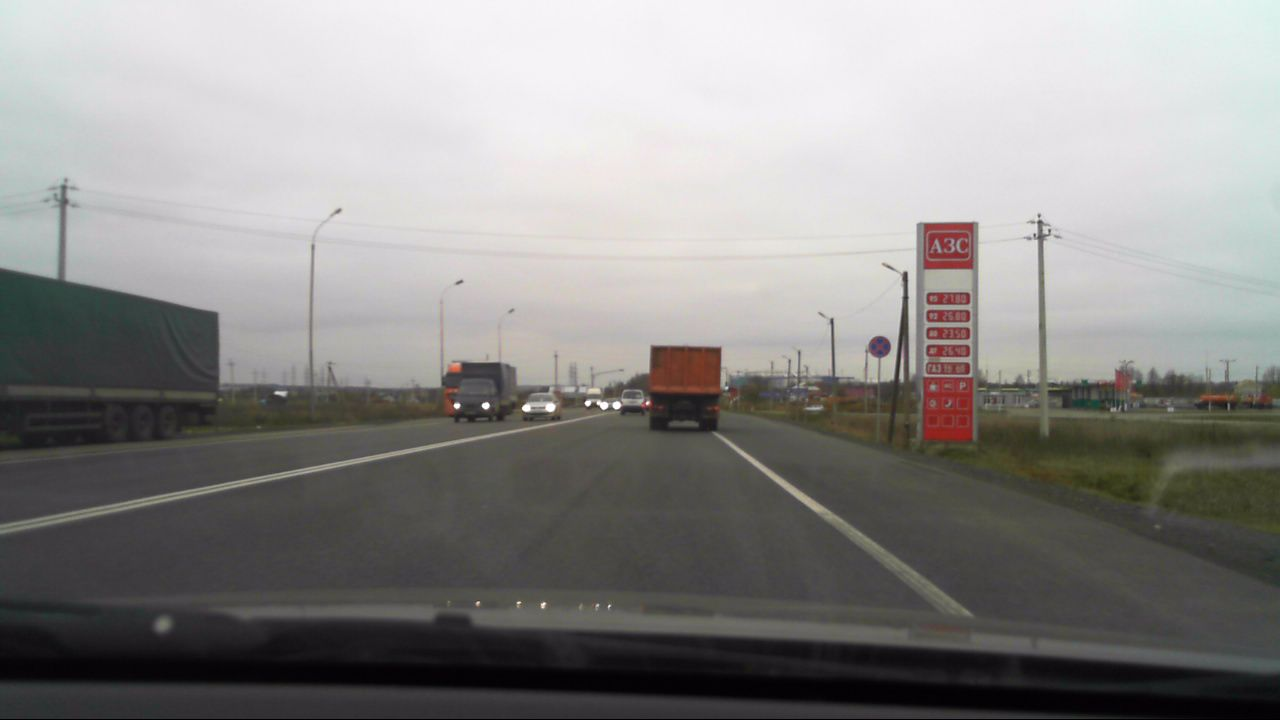No Parking: (867, 333, 891, 359)
